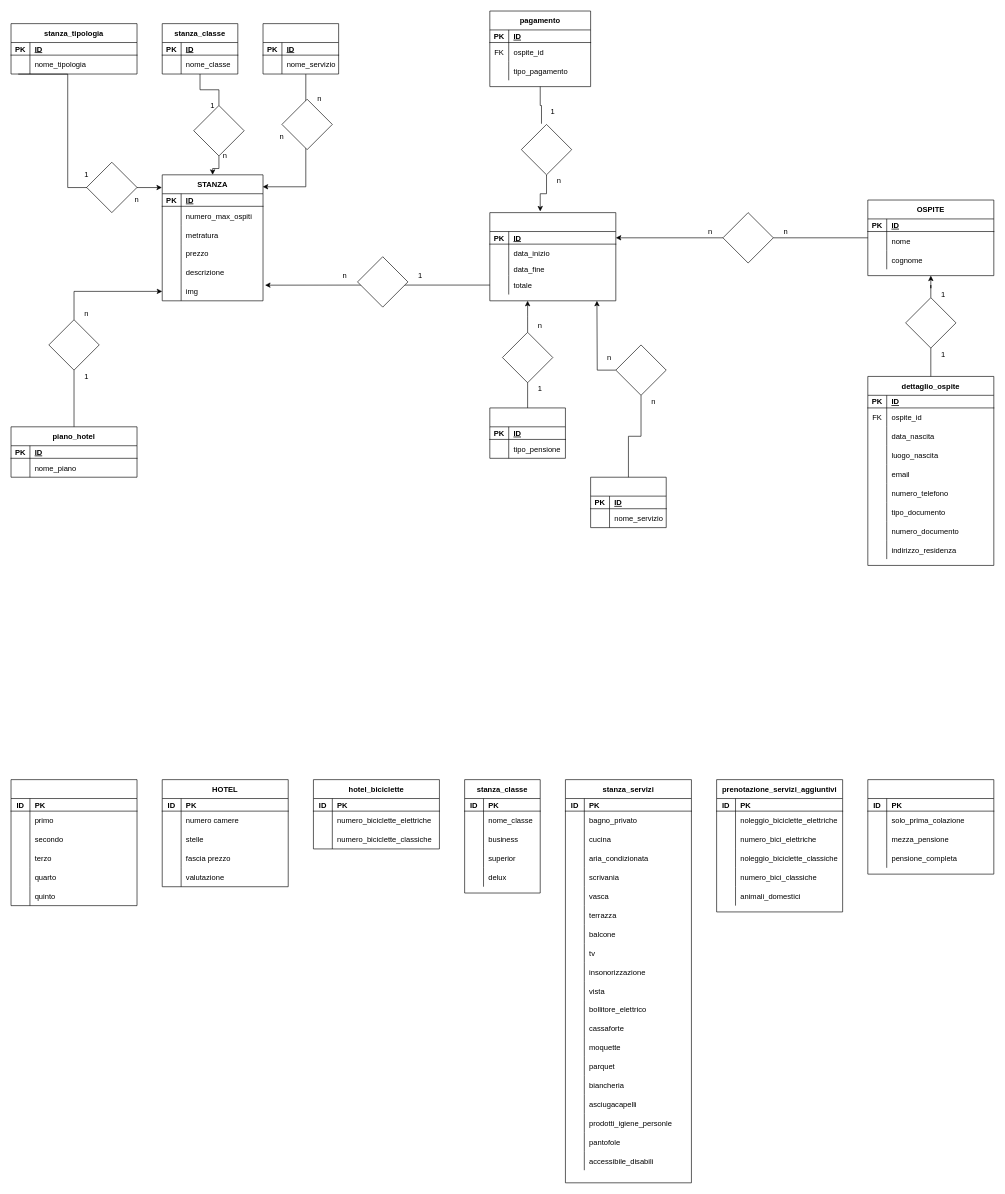
This 1005x1194 diagram has some shape labels left out. The shapes that lost their labels are listed below. From the top down, each one's box as (x1, y1, x2, y2) in pixels, then its label:
(262, 23, 339, 74): stanza_servizio
(489, 212, 616, 301): PRENOTAZIONI
(489, 407, 565, 458): tipologia_pensione
(590, 477, 666, 528): servizio_aggiuntivo
(10, 779, 137, 906): piani_hotel
(867, 779, 994, 874): prenotazione_tipologia_pensione
